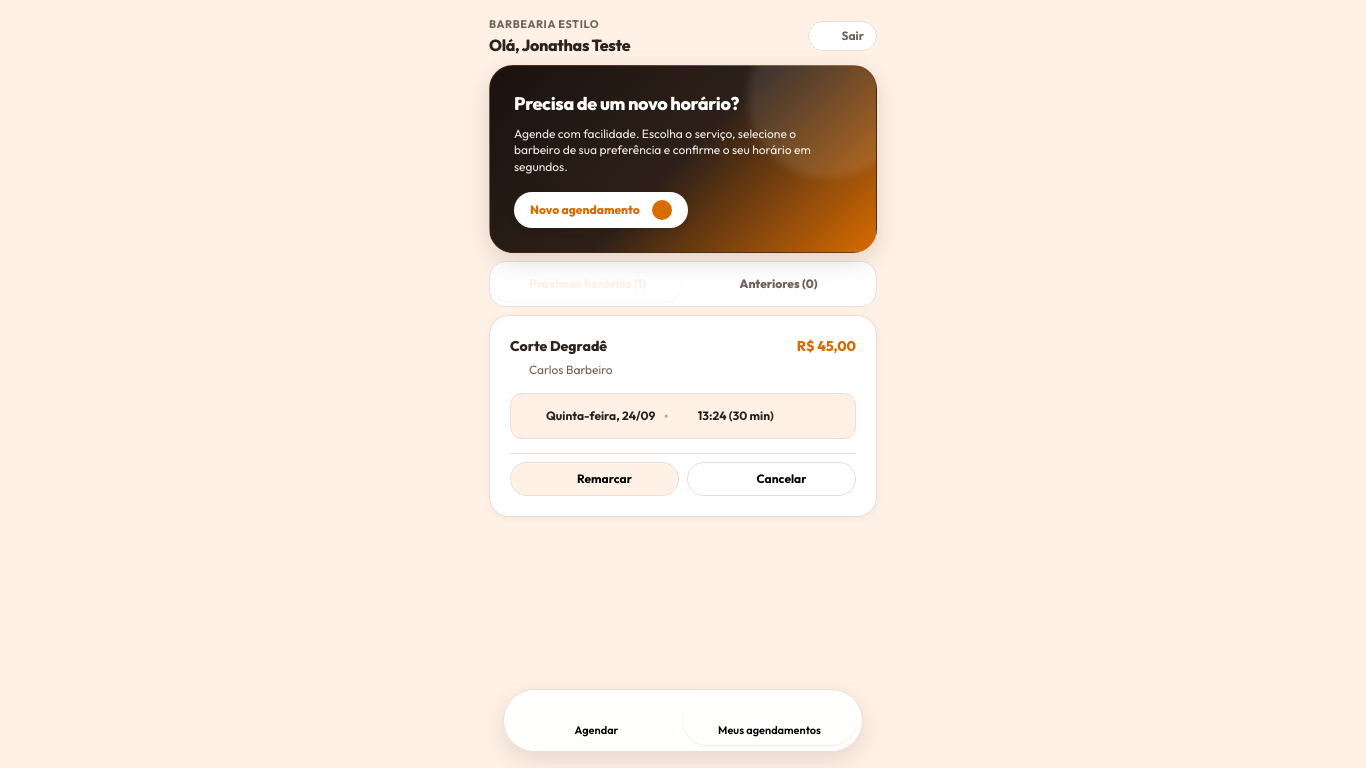
Test: MenuCliente - TDD › exibe modal de redirecionamento para o WhatsApp caso o prazo de cancelamento tenha expirado
The width and height of the screenshot is (1366, 768).
Expected: the heading "Corte Degradê" is shown, [510,336,613,357]
Click the button "Cancelar": (772, 479) [687,462,856,496]
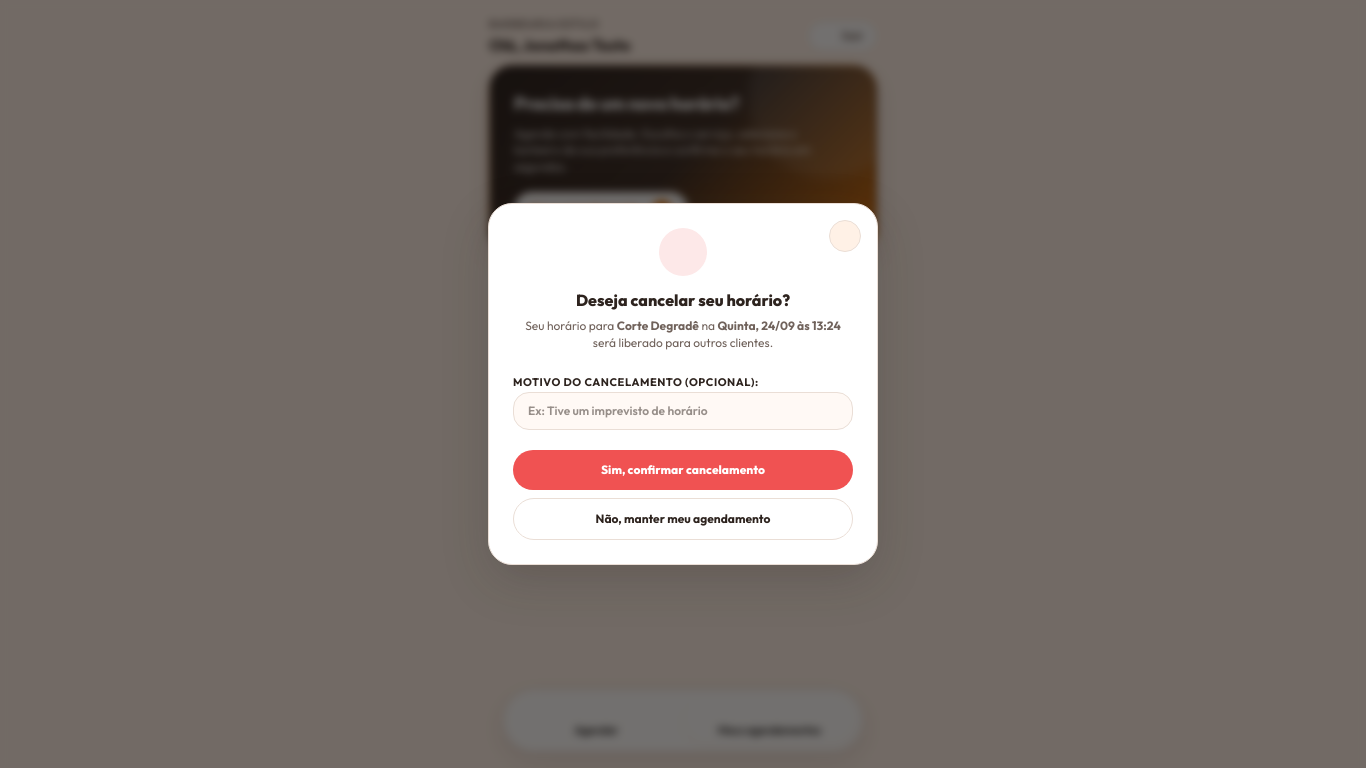
Click the button "Sim, confirmar cancelamento": (683, 470) [513,450,853,490]
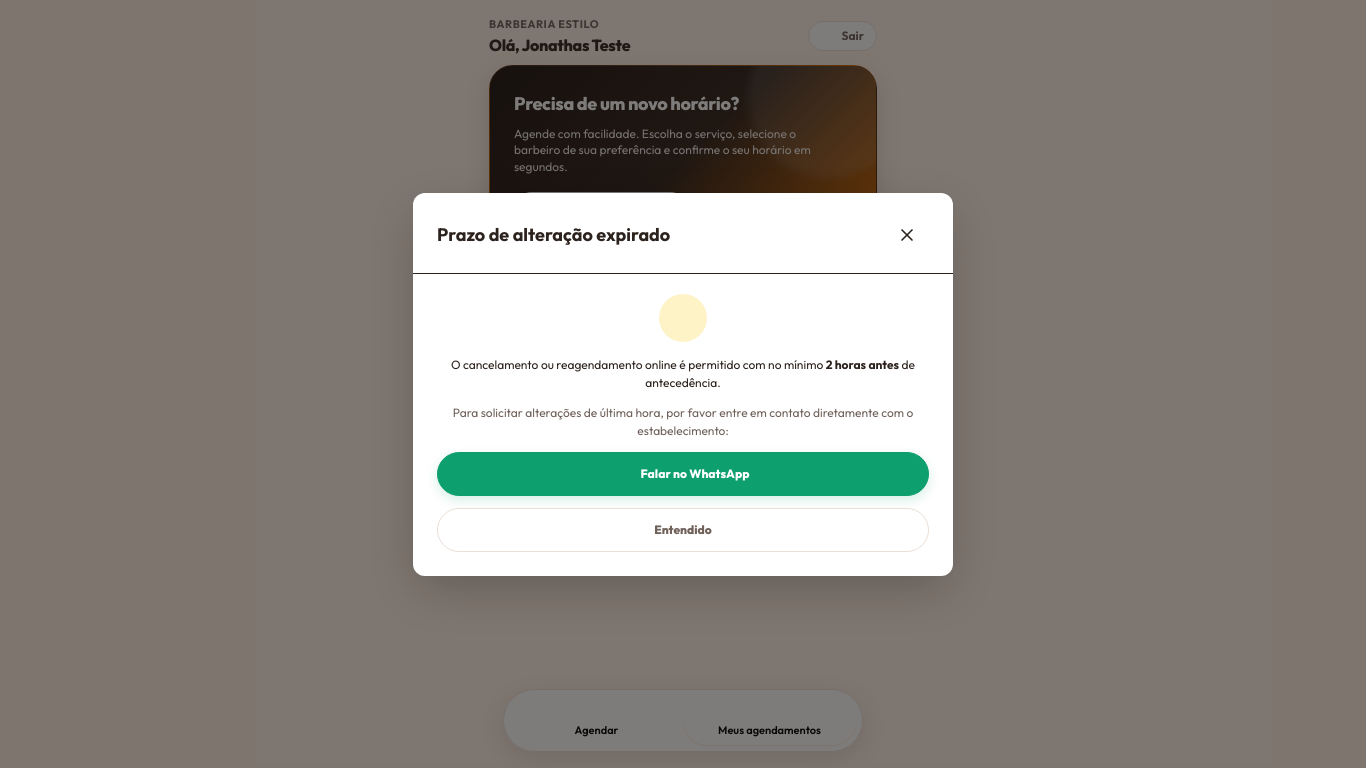
Result: the heading "Prazo de alteração expirado" is shown at [437,220,670,248]
Result: the link "Falar no WhatsApp" is shown at [437,452,929,496]
